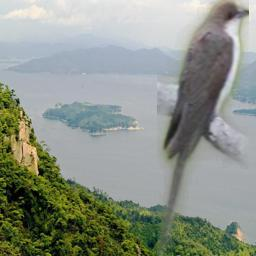Cuckoo: (157, 0, 249, 256)
